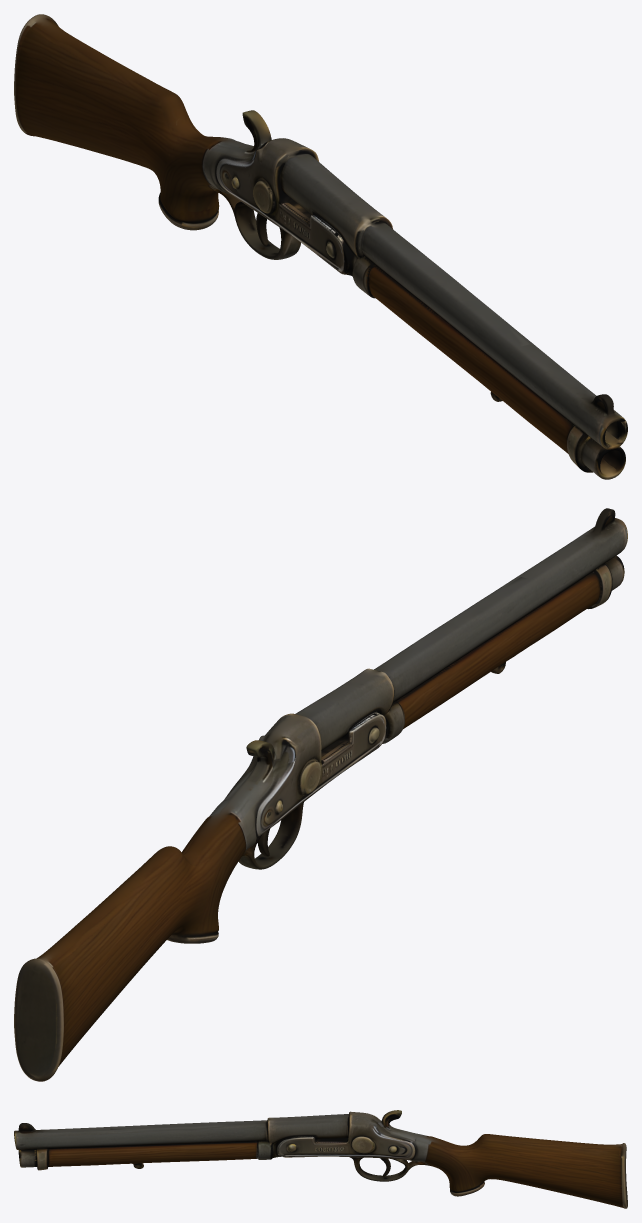
The picture shows the model from 3 angles, top to bottom: view 1: azimuth 30°, elevation 25°; view 2: azimuth 150°, elevation 25°; view 3: azimuth 270°, elevation 25°; orthographic projection. The views are drawn at different scales.
Visible parts, largest first — view 1: node_0; view 2: node_0; view 3: node_0.
Boxes of the visible parts, x1,y1,x2,y2 form: node_0: [14, 14, 627, 479]; node_0: [14, 508, 627, 1081]; node_0: [14, 1110, 627, 1208].
Size of the model in its own units: 0.0609 by 0.2041 by 1.19.
Materials: 1 (1 with a texture image).
